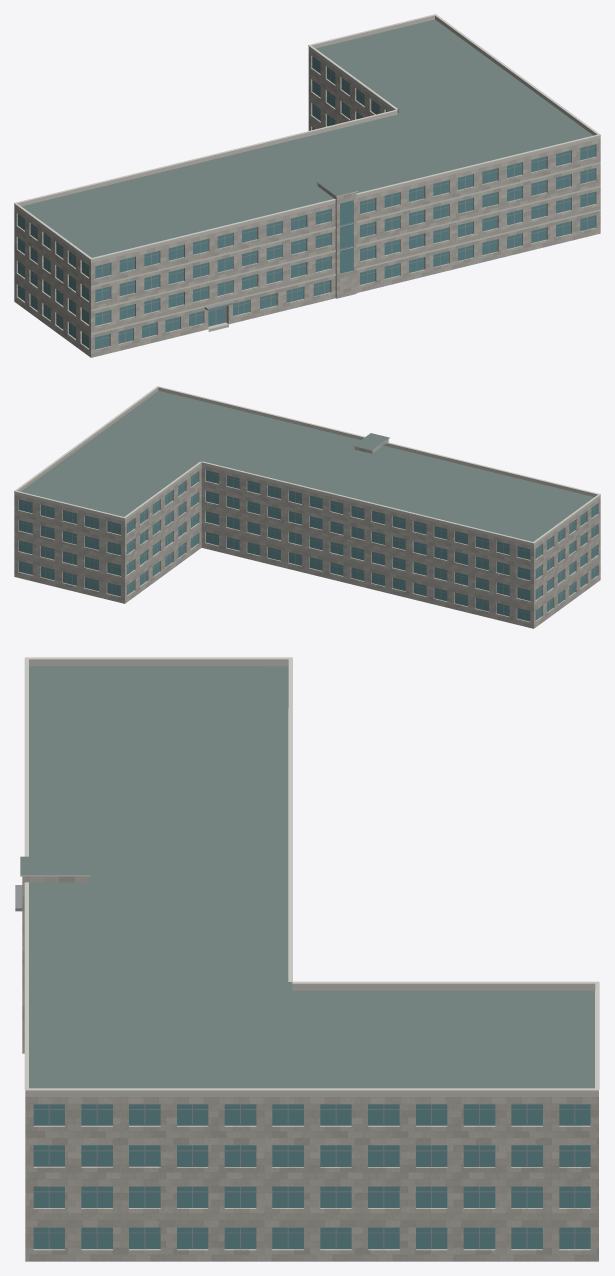
3 views of the same model, one above another, from view 1: azimuth 30°, elevation 25°; view 2: azimuth 150°, elevation 25°; view 3: azimuth 270°, elevation 25° (orthographic). The views are drawn at different scales.
Visible parts, largest first — view 1: seoho__roof, seoho__wall, seoho__glass, seoho__trim, seoho__parapet, seoho__frame; view 2: seoho__wall, seoho__roof, seoho__glass, seoho__parapet, seoho__frame, seoho__trim; view 3: seoho__roof, seoho__wall, seoho__glass, seoho__trim, seoho__parapet, seoho__frame.
Part boxes in pixels (box(x1,y1,x2,y2)): seoho__roof: box(19, 19, 599, 357); seoho__wall: box(14, 49, 600, 357); seoho__glass: box(18, 56, 595, 349); seoho__trim: box(14, 14, 600, 334); seoho__parapet: box(14, 15, 600, 262); seoho__frame: box(17, 58, 595, 347); seoho__wall: box(14, 439, 600, 628); seoho__roof: box(21, 390, 594, 627); seoho__glass: box(18, 470, 597, 621); seoho__parapet: box(14, 387, 600, 546); seoho__frame: box(18, 472, 597, 619); seoho__trim: box(14, 386, 600, 543); seoho__roof: box(20, 666, 598, 1261); seoho__wall: box(22, 876, 598, 1261); seoho__glass: box(33, 1104, 590, 1248); seoho__trim: box(20, 657, 599, 1091); seoho__parapet: box(25, 659, 598, 1096); seoho__frame: box(33, 1104, 590, 1249).
Size of the model in its own units: 81.27 by 16.1 by 46.36.
Materials: 9 (1 with a texture image).
